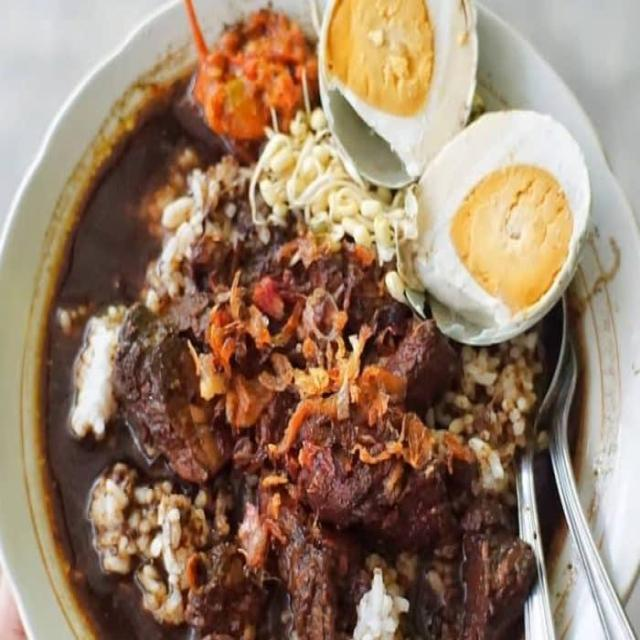Rawon: (73, 70, 554, 634)
